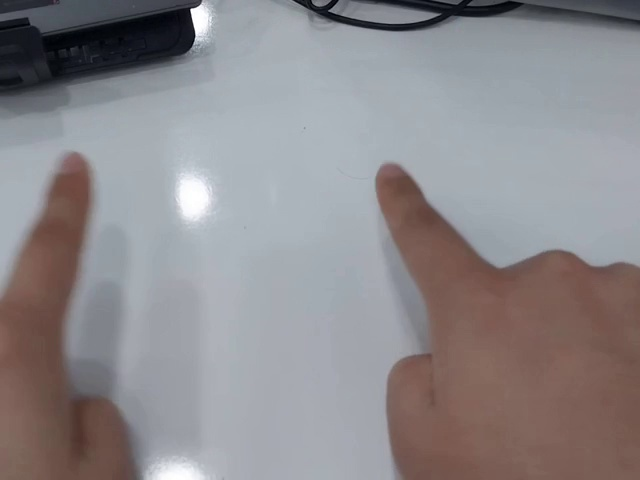fingers: (46, 150, 94, 200), (374, 162, 425, 206)
